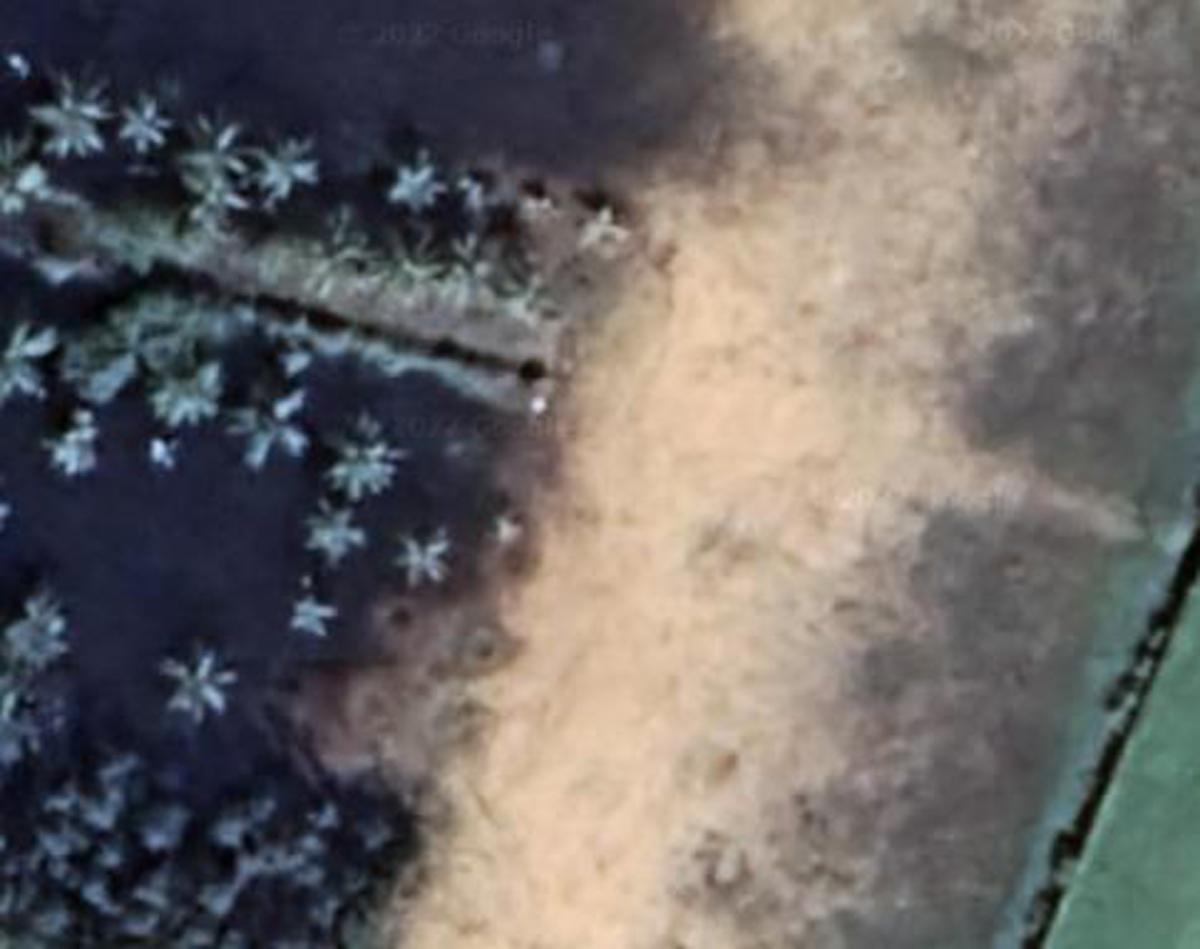coconut: (24, 72, 114, 156), (163, 645, 248, 727), (2, 317, 54, 414), (382, 231, 447, 303), (308, 228, 367, 303), (154, 365, 228, 424), (240, 390, 300, 462), (255, 131, 310, 206), (303, 494, 360, 566), (191, 111, 250, 178), (173, 171, 240, 228), (330, 437, 387, 504), (449, 243, 501, 310), (397, 531, 457, 586), (119, 94, 173, 154), (293, 591, 337, 653), (397, 161, 442, 211), (586, 206, 623, 243)
